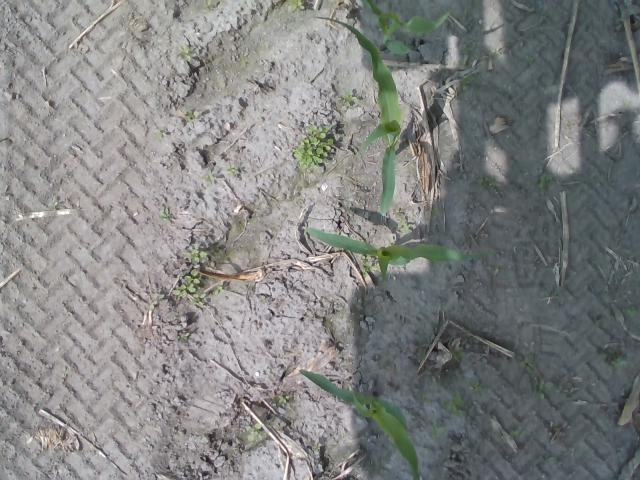Maize: (311, 16, 401, 217), (299, 370, 423, 479), (300, 226, 497, 282), (360, 0, 451, 56)
Weeds: (294, 120, 334, 168), (520, 358, 558, 401), (172, 268, 206, 308), (395, 206, 414, 232), (448, 392, 467, 418), (243, 422, 264, 443), (608, 353, 628, 372), (148, 288, 164, 309), (188, 248, 208, 262), (536, 174, 553, 190), (338, 89, 356, 104), (479, 174, 497, 188), (361, 256, 372, 276), (429, 426, 444, 440), (288, 0, 305, 12), (623, 305, 640, 317), (178, 46, 191, 61), (160, 208, 173, 222), (186, 110, 202, 121), (470, 379, 482, 393), (463, 76, 475, 90), (226, 164, 238, 175), (545, 456, 561, 464), (278, 394, 288, 406), (494, 265, 504, 277), (494, 48, 506, 56), (511, 430, 520, 438), (313, 442, 322, 450), (215, 286, 222, 295), (527, 56, 534, 64)
